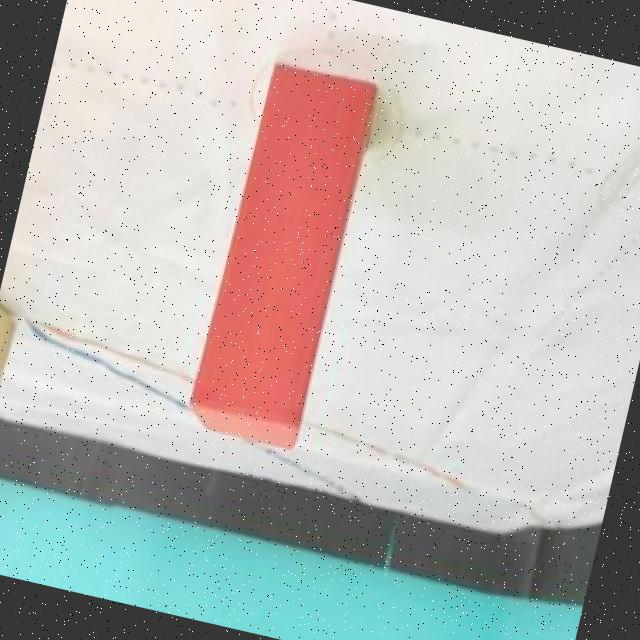redbox: (189, 62, 374, 447)
